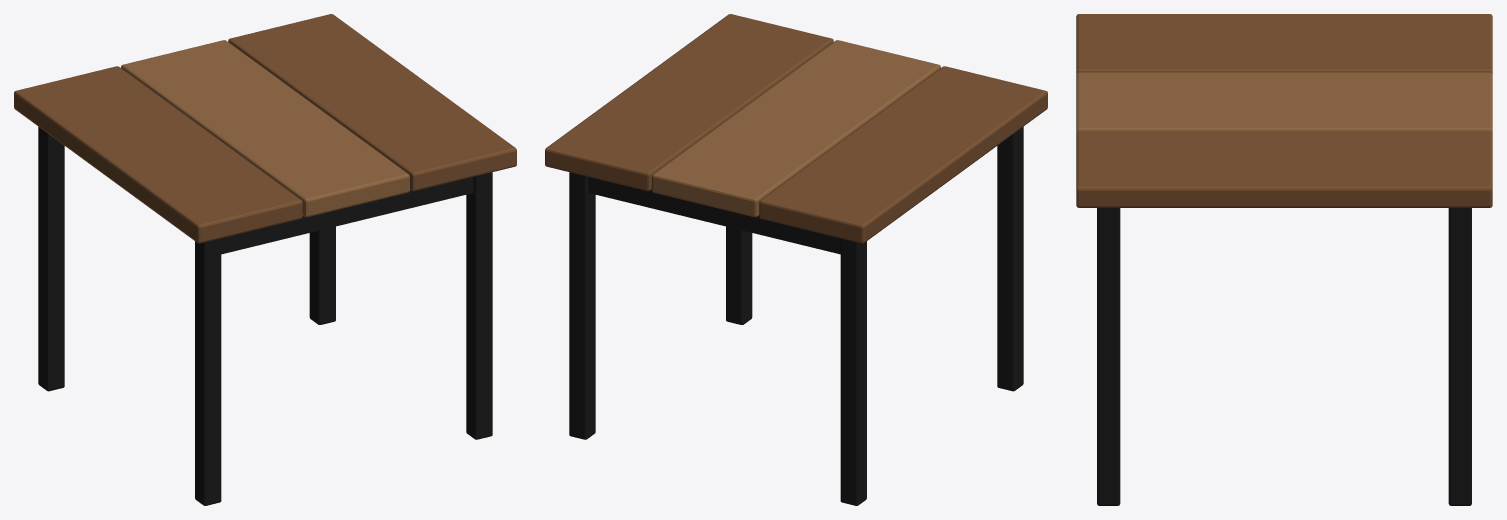
Rendered from table.glb.
3 views of the same model, side by side, from view 1: azimuth 30°, elevation 25°; view 2: azimuth 150°, elevation 25°; view 3: azimuth 270°, elevation 25° (orthographic). The views are drawn at different scales.
Visible parts, largest first — view 1: plank0, plank1, plank2, leg, leg.002, leg.001, apron_x2, leg.003; view 2: plank0, plank1, plank2, leg.001, leg.003, leg, apron_x, leg.002; view 3: plank2, plank1, plank0, leg.002, leg.003.
Part boxes in pixels (x1,y1,x2,y2): plank0: (14, 66, 302, 243); plank1: (121, 40, 409, 217); plank2: (228, 14, 516, 191); leg: (195, 238, 221, 505); leg.002: (466, 172, 492, 439); leg.001: (38, 126, 64, 391); apron_x2: (221, 177, 473, 254); leg.003: (309, 226, 335, 324); plank0: (759, 66, 1047, 243); plank1: (652, 40, 940, 217); plank2: (545, 14, 833, 191); leg.001: (840, 238, 866, 505); leg.003: (569, 172, 595, 439); leg: (997, 126, 1023, 391); apron_x: (588, 177, 840, 254); leg.002: (726, 226, 752, 324); plank2: (1076, 131, 1492, 207); plank1: (1076, 72, 1492, 132); plank0: (1076, 14, 1492, 74); leg.002: (1097, 208, 1120, 505); leg.003: (1448, 208, 1471, 505).
Size of the model in its own units: 0.895 by 0.78 by 0.9.
